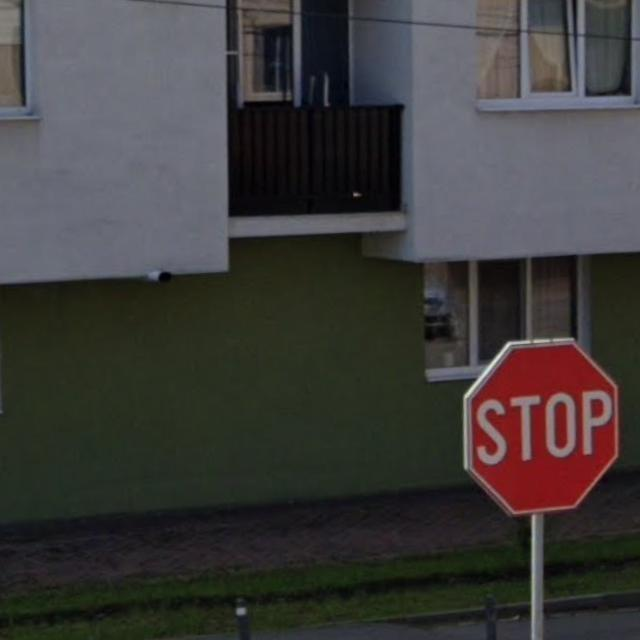prio_stop: (461, 340, 618, 515)
